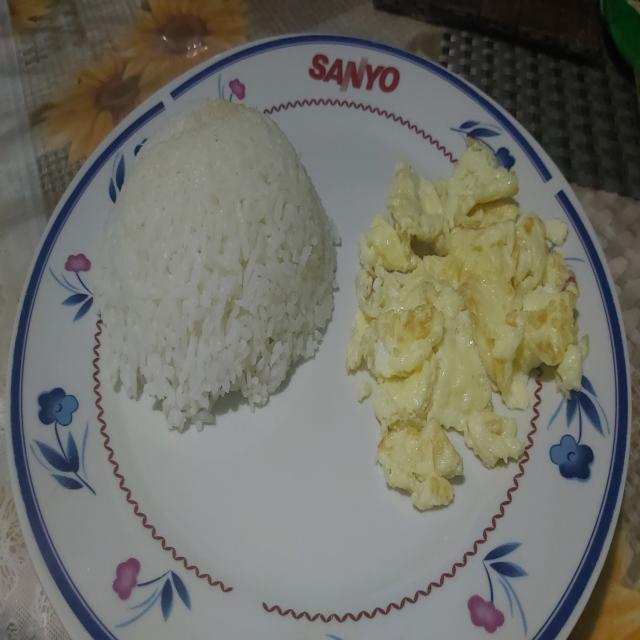Chicken -Chicken Inasal-: (96, 96, 334, 402)
